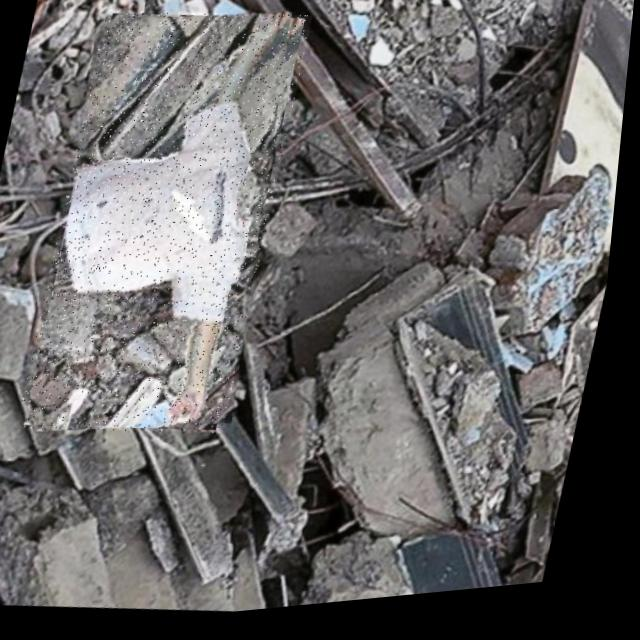Person in Rubble: (22, 0, 314, 454)
